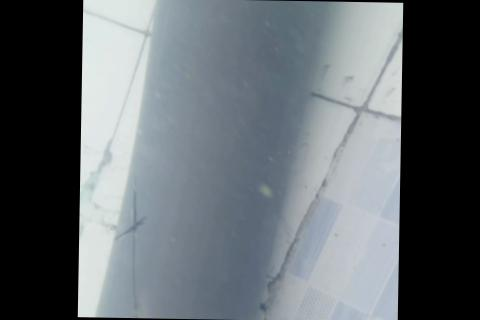keretakan: (114, 185, 150, 318)
